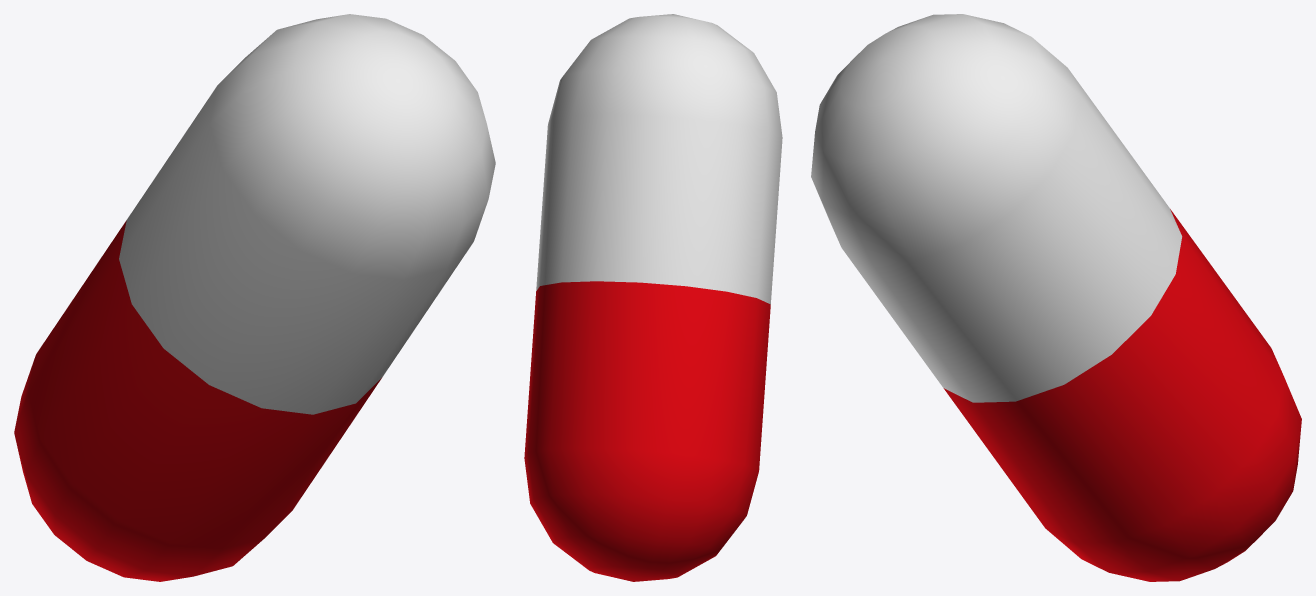
The model's file is VJ_Capsula_Health_Animada.fbx.
The picture shows the model from 3 angles, left to right: view 1: azimuth 30°, elevation 25°; view 2: azimuth 150°, elevation 25°; view 3: azimuth 270°, elevation 25°; orthographic projection. The views are drawn at different scales.
Visible parts, largest first — view 1: Sphere; view 2: Sphere; view 3: Sphere.
Boxes of the visible parts, bbox=[...] form: Sphere: bbox=[14, 14, 495, 581]; Sphere: bbox=[524, 14, 782, 581]; Sphere: bbox=[811, 14, 1301, 581].
Bounding box in the file's own units: 1.87 × 3.21 × 2.49.
